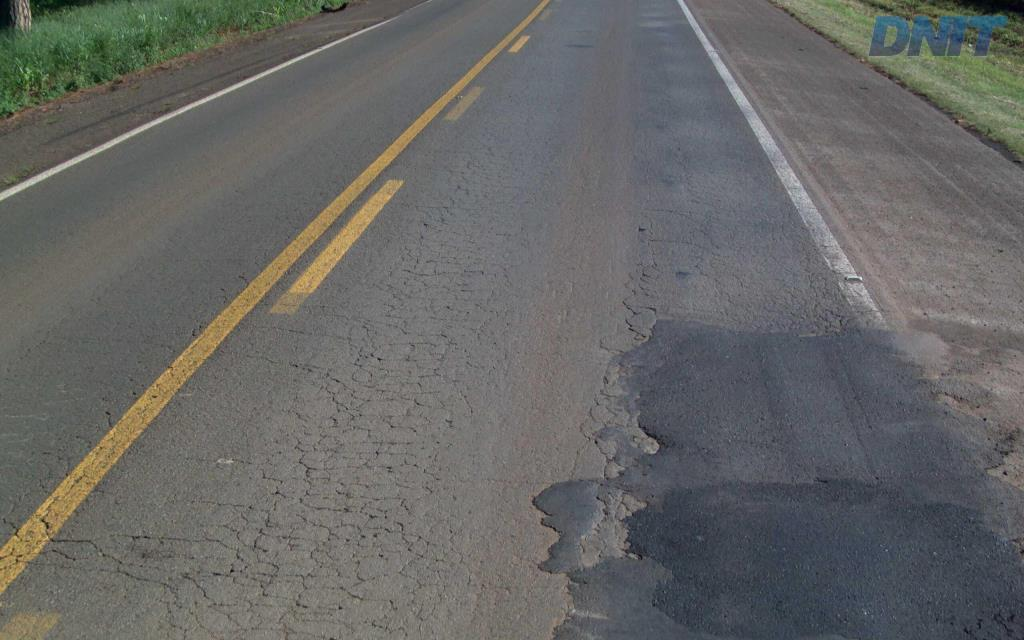crack: (108, 531, 227, 564), (599, 349, 630, 421), (635, 224, 664, 284)
